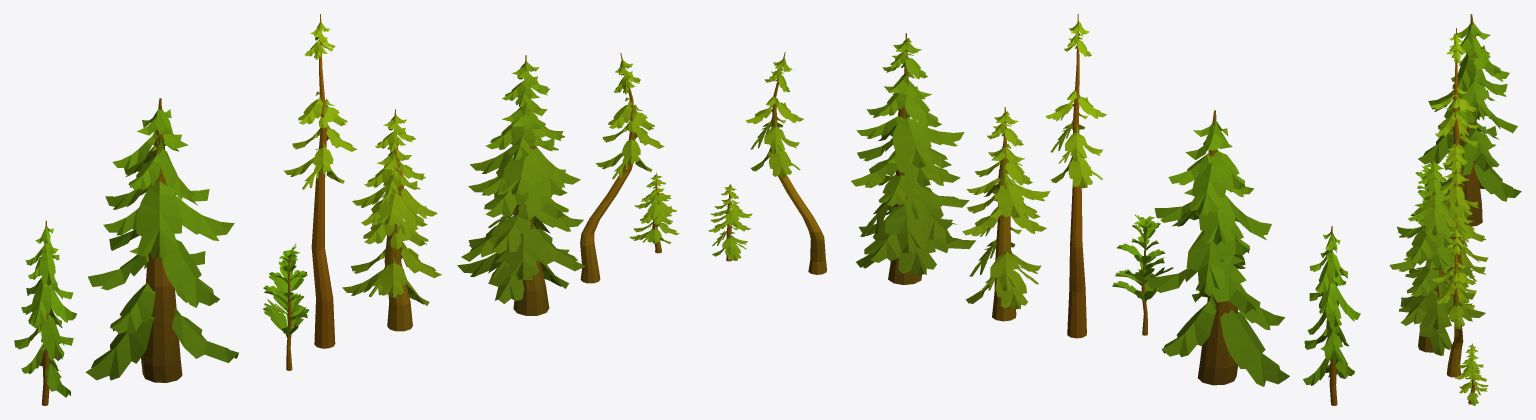
Rendered from treepack.glb.
The picture shows the model from 3 angles, left to right: view 1: azimuth 30°, elevation 25°; view 2: azimuth 150°, elevation 25°; view 3: azimuth 270°, elevation 25°; orthographic projection. The views are drawn at different scales.
Parts seen in each view (by area): view 1: SM_FreeTree_02, SM_FreeTree_06, SM_FreeTree_05, SM_FreeTree_04, SM_FreeTree_01, SM_FreeTree_07, SM_FreeTree_03, SM_FreeTree_08; view 2: SM_FreeTree_02, SM_FreeTree_06, SM_FreeTree_05, SM_FreeTree_04, SM_FreeTree_01, SM_FreeTree_07, SM_FreeTree_03, SM_FreeTree_08; view 3: SM_FreeTree_06, SM_FreeTree_02, SM_FreeTree_05, SM_FreeTree_07, SM_FreeTree_04, SM_FreeTree_08, SM_FreeTree_03.
Part boxes in pixels (left/top/right/bottom): SM_FreeTree_02: left=85, top=98, right=238, bottom=382; SM_FreeTree_06: left=457, top=55, right=585, bottom=315; SM_FreeTree_05: left=342, top=109, right=441, bottom=331; SM_FreeTree_04: left=283, top=14, right=357, bottom=348; SM_FreeTree_01: left=14, top=220, right=76, bottom=405; SM_FreeTree_07: left=580, top=53, right=664, bottom=283; SM_FreeTree_03: left=263, top=244, right=308, bottom=370; SM_FreeTree_08: left=629, top=173, right=679, bottom=253; SM_FreeTree_02: left=1146, top=110, right=1289, bottom=386; SM_FreeTree_06: left=851, top=33, right=975, bottom=284; SM_FreeTree_05: left=962, top=107, right=1049, bottom=321; SM_FreeTree_04: left=1045, top=14, right=1106, bottom=338; SM_FreeTree_01: left=1303, top=226, right=1360, bottom=405; SM_FreeTree_07: left=745, top=52, right=826, bottom=274; SM_FreeTree_03: left=1112, top=214, right=1173, bottom=335; SM_FreeTree_08: left=708, top=184, right=752, bottom=261; SM_FreeTree_06: left=1389, top=155, right=1485, bottom=355; SM_FreeTree_02: left=1418, top=14, right=1521, bottom=226; SM_FreeTree_05: left=1440, top=140, right=1488, bottom=303; SM_FreeTree_07: left=1432, top=222, right=1476, bottom=377; SM_FreeTree_04: left=1431, top=28, right=1477, bottom=239; SM_FreeTree_08: left=1455, top=343, right=1488, bottom=405; SM_FreeTree_03: left=1410, top=166, right=1446, bottom=225.
Bounding box in the file's own units: 25.55 × 12.28 × 5.95.
1 material, 1 textured.
